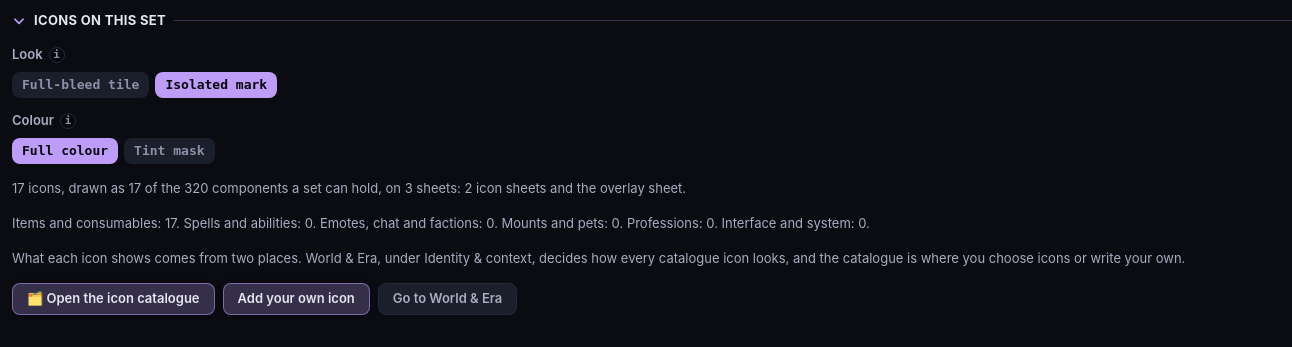
Test: IconRosterSection › keeps the set’s figures in its header while folded
Click the heading "Icons on this set" at (89, 20), box [12,12,166,28]
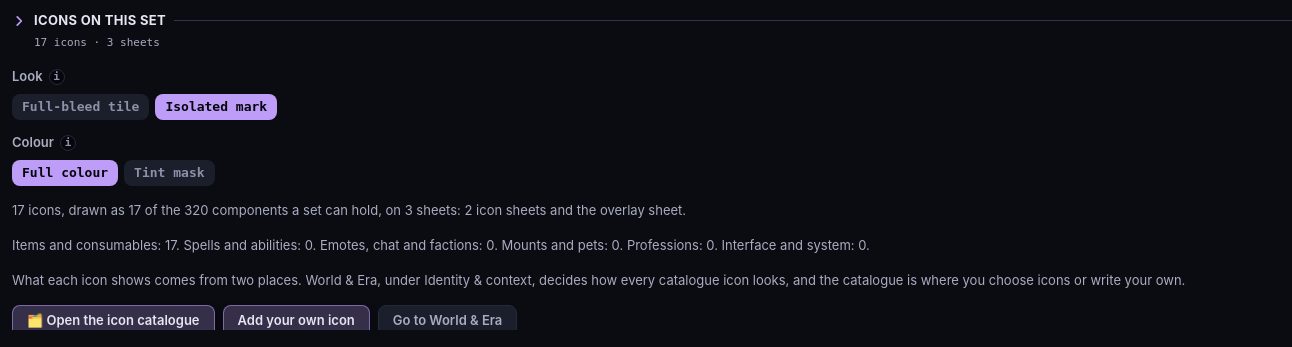
expect the text "17 icons · 3 sheets" is shown: met, box [34,36,160,49]
